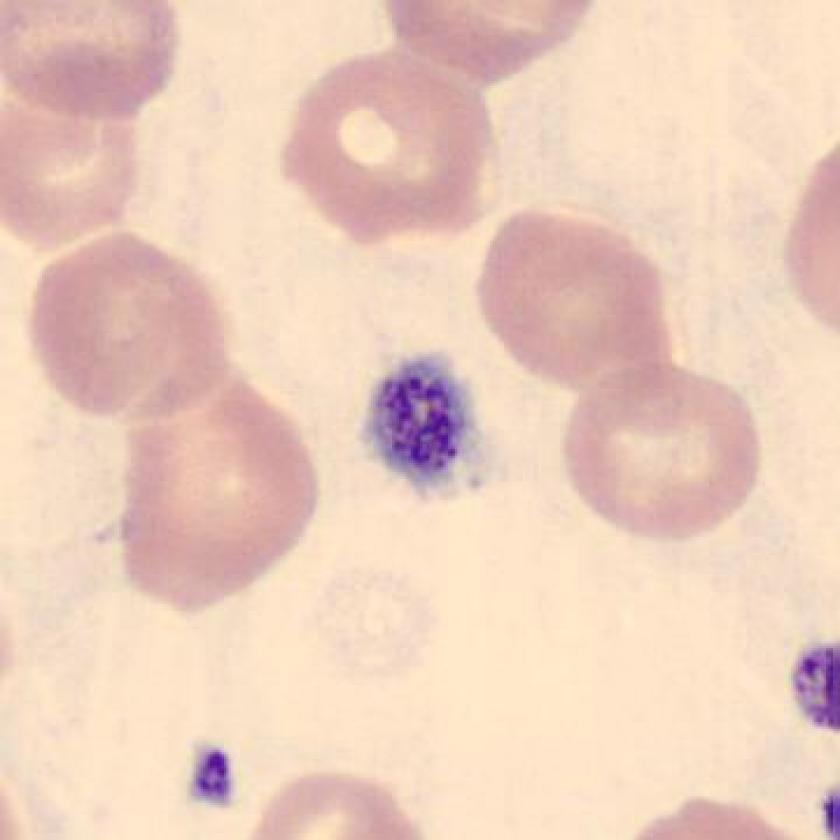platelets: (349, 344, 498, 510), (176, 728, 248, 820)
